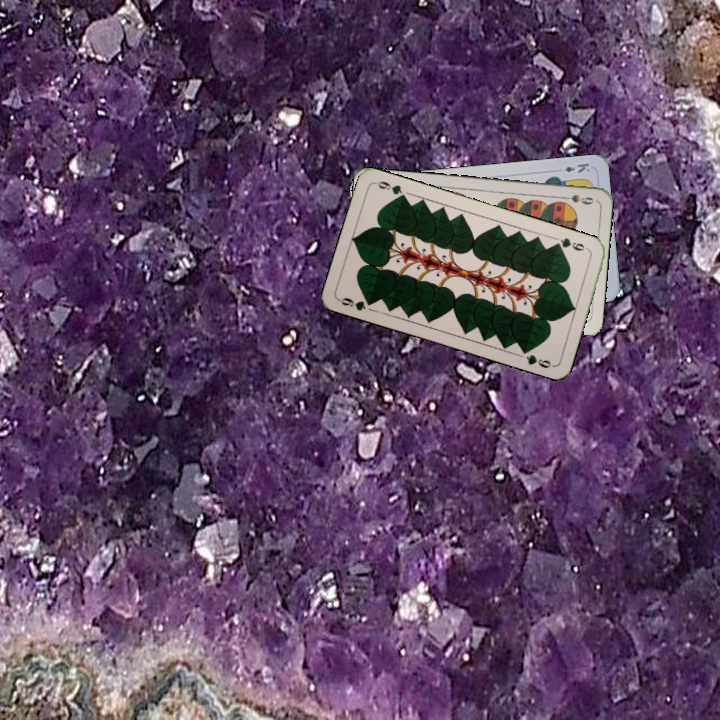EK: (560, 159, 593, 175)
G9: (335, 293, 377, 313), (550, 234, 591, 253)
S9: (556, 190, 596, 207)
